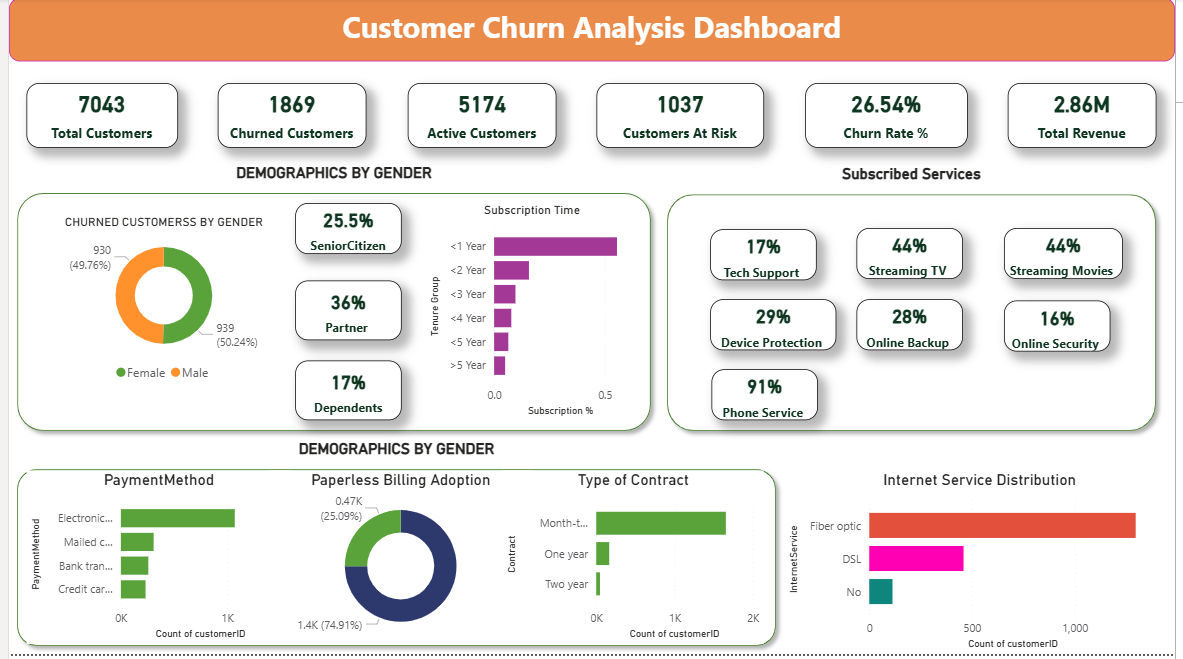

What the dashboard file says about the page in this screenshot:
{"tool":"powerbi","page":{"name":"Page 1","canvas":[1280,720],"ordinal":0},"visuals":[{"type":"card","fields":{"Values":["Count(01 Churn-Dataset.customerID)"]},"box":[229.7,93.3,163.3,71.4],"z":0},{"type":"card","fields":{"Values":["churn.Total Customers"]},"box":[19.2,93.3,166,71.4],"z":1000},{"type":"textbox","box":[0,0,1280.3,70],"z":2000},{"type":"card","fields":{"Values":["churn.Active Customers"]},"box":[437.5,93.3,163.3,71.4],"z":3000},{"type":"card","fields":{"Values":["churn.Churn Rate %"]},"box":[873.6,93.3,178.4,71.4],"z":4000},{"type":"card","fields":{"Values":["churn.Total Revenue"]},"box":[1096.4,93.3,163.3,71.4],"z":5000},{"type":"card","fields":{"Values":["churn.Customers At Risk"]},"box":[645.2,93.3,183.9,71.4],"z":6000},{"type":"shape","title":"DEMOGRAPHICS BY GENDER","box":[0,181.1,713.6,303.3],"z":7000},{"type":"donutChart","title":"CHURNED CUSTOMERSS BY GENDER","fields":{"Category":["01 Churn-Dataset.gender"],"Y":["CountNonNull(01 Churn-Dataset.customerID)"]},"box":[19.2,238.8,301.9,190.7],"z":8000},{"type":"card","fields":{"Values":["churn.SeniorCitizen %"]},"box":[314.2,225,116.6,56.3],"z":9000},{"type":"card","fields":{"Values":["churn.Partner %"]},"box":[314.2,310.1,116.6,65.9],"z":10000},{"type":"card","fields":{"Values":["churn.Dependents %"]},"box":[314.2,397.9,116.6,65.9],"z":11000},{"type":"shape","title":"DEMOGRAPHICS BY GENDER","box":[0,484.4,850.8,236],"z":11500},{"type":"clusteredBarChart","title":"Subscription Time","fields":{"Category":["churn.Tenure Group"],"Y":["churn.Subscription %"]},"box":[456.9,225,234.6,238.8],"z":12000},{"type":"clusteredBarChart","title":"PaymentMethod","fields":{"Category":["churn.PaymentMethod"],"Y":["CountNonNull(churn.customerID)"]},"box":[19.2,518.7,290.9,190.7],"z":14000},{"type":"shape","title":"Subscribed Services","box":[713.6,182.5,554.4,301.9],"z":14500},{"type":"donutChart","title":"Paperless Billing Adoption","fields":{"Category":["churn.PaperlessBilling"],"Y":["CountNonNull(churn.customerID)"]},"box":[285.4,518.7,289.5,190.7],"z":15000},{"type":"clusteredBarChart","title":"Type of Contract","fields":{"Y":["CountNonNull(churn.customerID)"],"Category":["churn.Contract"]},"box":[542,518.7,286.8,190.7],"z":17000},{"type":"clusteredBarChart","title":"Internet Service Distribution","fields":{"Category":["churn.InternetService"],"Y":["CountNonNull(churn.customerID)"]},"box":[850.8,518.7,429.5,201.7],"z":18000},{"type":"card","fields":{"Values":["churn.Tech Support %"]},"box":[769.8,253.9,116.6,56.3],"z":19000},{"type":"card","fields":{"Values":["churn.Online Security %"]},"box":[1092.6,332.6,116.6,56.3],"z":20000},{"type":"card","fields":{"Values":["churn.Online Backup %"]},"box":[930.6,331.3,116.6,56.3],"z":21000},{"type":"card","fields":{"Values":["churn.Streaming TV %"]},"box":[930.4,252.5,116.6,56.3],"z":22000},{"type":"card","fields":{"Values":["churn.Streaming Movies %"]},"box":[1092.3,252.5,130.4,56.3],"z":23000},{"type":"card","fields":{"Values":["churn.Phone Service %"]},"box":[771.2,407.5,116.6,56.3],"z":24000},{"type":"card","fields":{"Values":["churn.Device Protection %"]},"box":[769.8,330.7,138.6,56.3],"z":25000}]}

Visuals, with their boxes in screenshot pixels (x1, y1, x2, y2), scaled from the page's 1280x720 canvas onto the 1183x659 screenshot:
card - Count(01 Churn-Dataset.customerID): {"left": 212, "top": 85, "right": 363, "bottom": 151}
card - churn.Total Customers: {"left": 18, "top": 85, "right": 171, "bottom": 151}
textbox: {"left": 0, "top": 0, "right": 1182, "bottom": 64}
card - churn.Active Customers: {"left": 404, "top": 85, "right": 555, "bottom": 151}
card - churn.Churn Rate %: {"left": 807, "top": 85, "right": 972, "bottom": 151}
card - churn.Total Revenue: {"left": 1013, "top": 85, "right": 1164, "bottom": 151}
card - churn.Customers At Risk: {"left": 596, "top": 85, "right": 766, "bottom": 151}
"DEMOGRAPHICS BY GENDER" shape: {"left": 0, "top": 166, "right": 660, "bottom": 443}
"CHURNED CUSTOMERSS BY GENDER" donutChart: {"left": 18, "top": 219, "right": 297, "bottom": 393}
card - churn.SeniorCitizen %: {"left": 290, "top": 206, "right": 398, "bottom": 257}
card - churn.Partner %: {"left": 290, "top": 284, "right": 398, "bottom": 344}
card - churn.Dependents %: {"left": 290, "top": 364, "right": 398, "bottom": 425}
"DEMOGRAPHICS BY GENDER" shape: {"left": 0, "top": 443, "right": 786, "bottom": 658}
"Subscription Time" clusteredBarChart: {"left": 422, "top": 206, "right": 639, "bottom": 425}
"PaymentMethod" clusteredBarChart: {"left": 18, "top": 475, "right": 287, "bottom": 649}
"Subscribed Services" shape: {"left": 660, "top": 167, "right": 1172, "bottom": 443}
"Paperless Billing Adoption" donutChart: {"left": 264, "top": 475, "right": 531, "bottom": 649}
"Type of Contract" clusteredBarChart: {"left": 501, "top": 475, "right": 766, "bottom": 649}
"Internet Service Distribution" clusteredBarChart: {"left": 786, "top": 475, "right": 1182, "bottom": 658}
card - churn.Tech Support %: {"left": 711, "top": 232, "right": 819, "bottom": 284}
card - churn.Online Security %: {"left": 1010, "top": 304, "right": 1118, "bottom": 356}
card - churn.Online Backup %: {"left": 860, "top": 303, "right": 968, "bottom": 355}
card - churn.Streaming TV %: {"left": 860, "top": 231, "right": 968, "bottom": 283}
card - churn.Streaming Movies %: {"left": 1010, "top": 231, "right": 1130, "bottom": 283}
card - churn.Phone Service %: {"left": 713, "top": 373, "right": 821, "bottom": 425}
card - churn.Device Protection %: {"left": 711, "top": 303, "right": 840, "bottom": 354}
